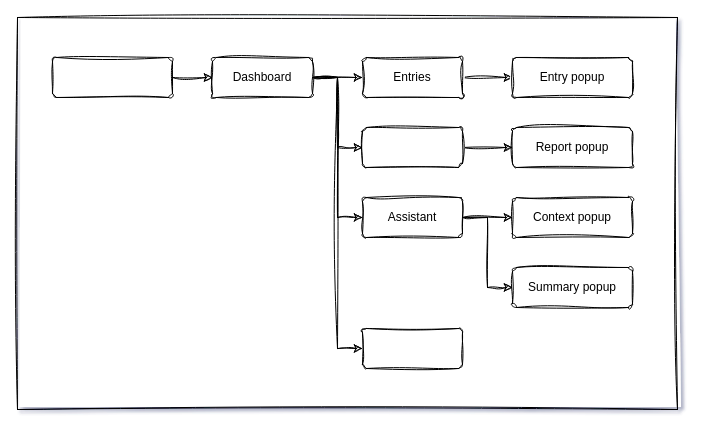
Image size: 701x433. Some labels were removed from this diagram. Here are the shapes that lost their labels. From the top down, the centre of each, then its label:
(112,77): Start screen (Create profile)
(412,147): Reports
(412,348): Profile
